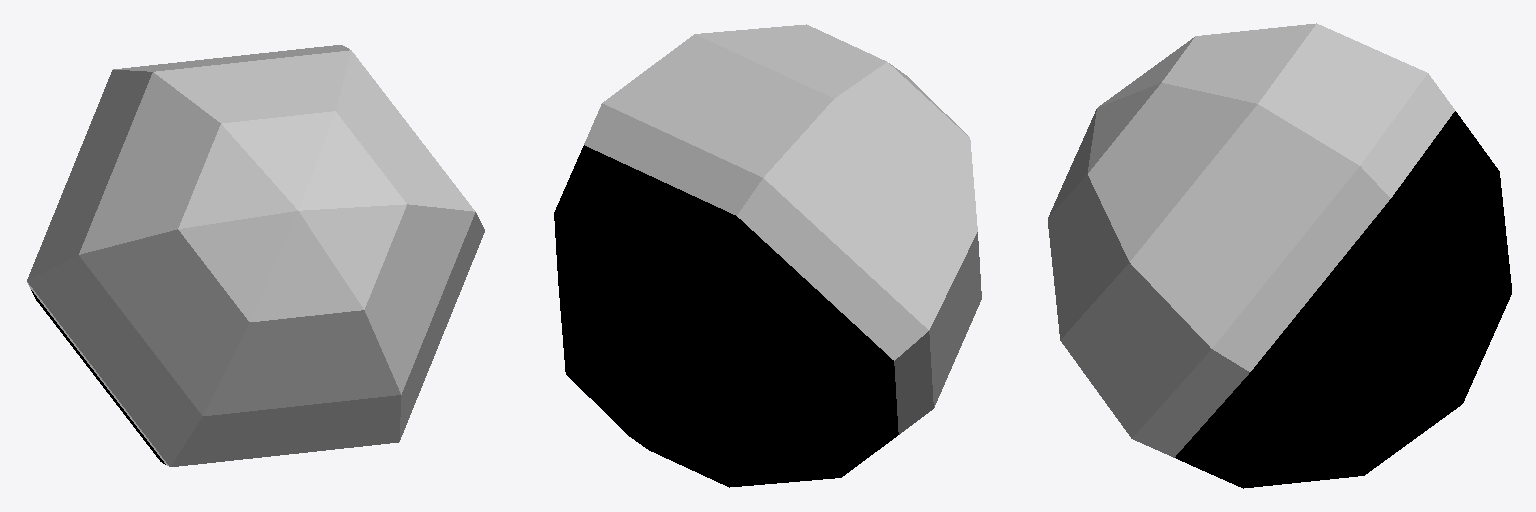
Rendered from expo.obj.
3 renders of one model, left to right at view 1: azimuth 30°, elevation 25°; view 2: azimuth 150°, elevation 25°; view 3: azimuth 270°, elevation 25°, orthographic.
Parts seen in each view (by area): view 1: Sphere_Sphere.001; view 2: Sphere_Sphere.001; view 3: Sphere_Sphere.001.
Part boxes in pixels (x1,y1,x2,y2): Sphere_Sphere.001: (27, 45, 484, 466); Sphere_Sphere.001: (554, 24, 981, 487); Sphere_Sphere.001: (1048, 23, 1511, 488).
Bounding box in the file's own units: 0.1634 × 0.1546 × 0.1686.